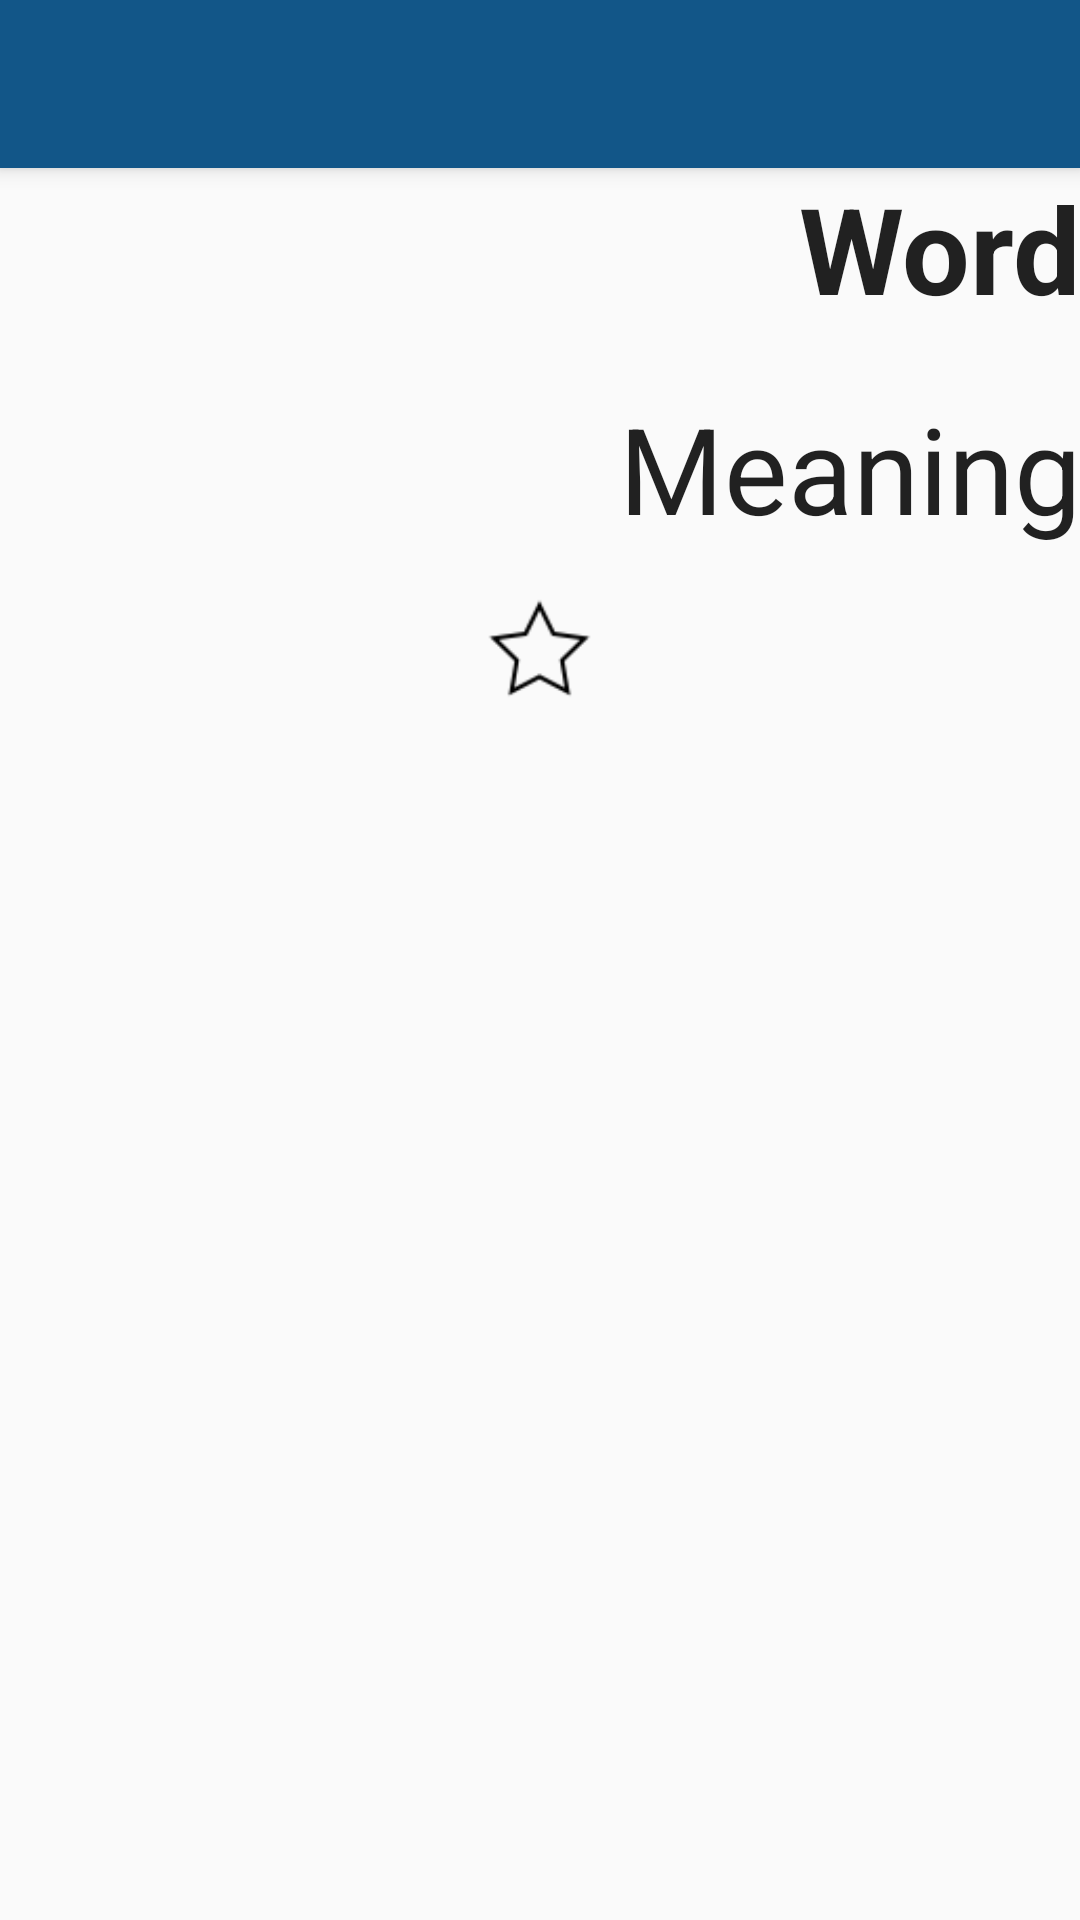

Icon click points for this 1080*1920 phone screenshot, format point (x, y):
favorites: point (539, 648)
